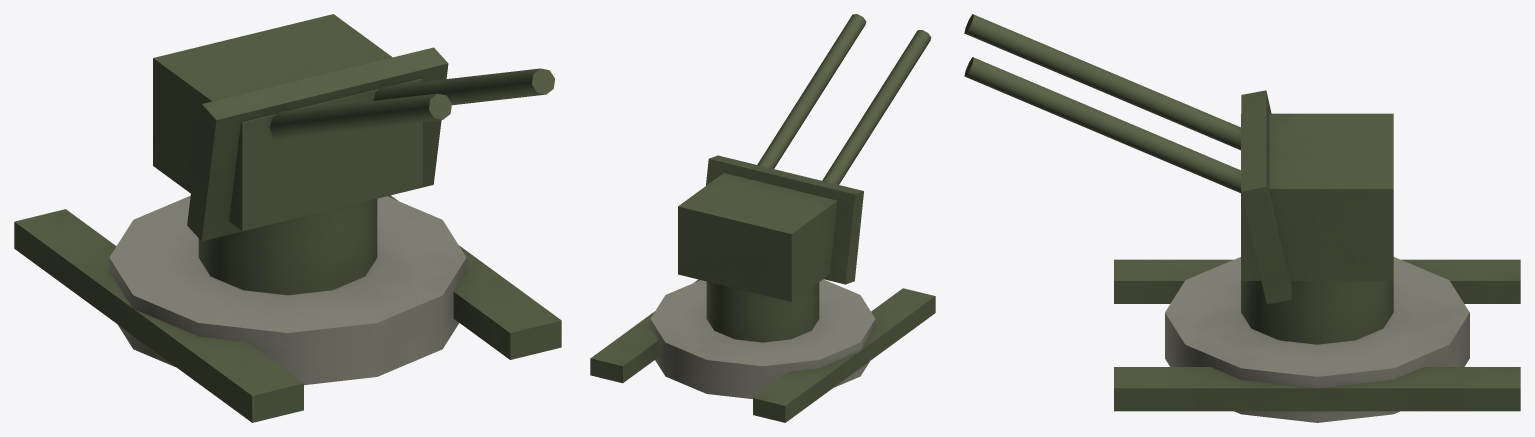
File: military-aa.fbx
3 renders of one model, left to right at view 1: azimuth 30°, elevation 25°; view 2: azimuth 150°, elevation 25°; view 3: azimuth 270°, elevation 25°, orthographic. The views are drawn at different scales.
Parts seen in each view (by area): view 1: military-aa; view 2: military-aa; view 3: military-aa.
Part boxes in pixels (x1,y1,x2,y2): military-aa: (14, 14, 561, 422); military-aa: (590, 14, 935, 422); military-aa: (964, 14, 1520, 422).
Bounding box in the file's own units: 12 × 14 × 21.89.
1 material, 1 textured.
